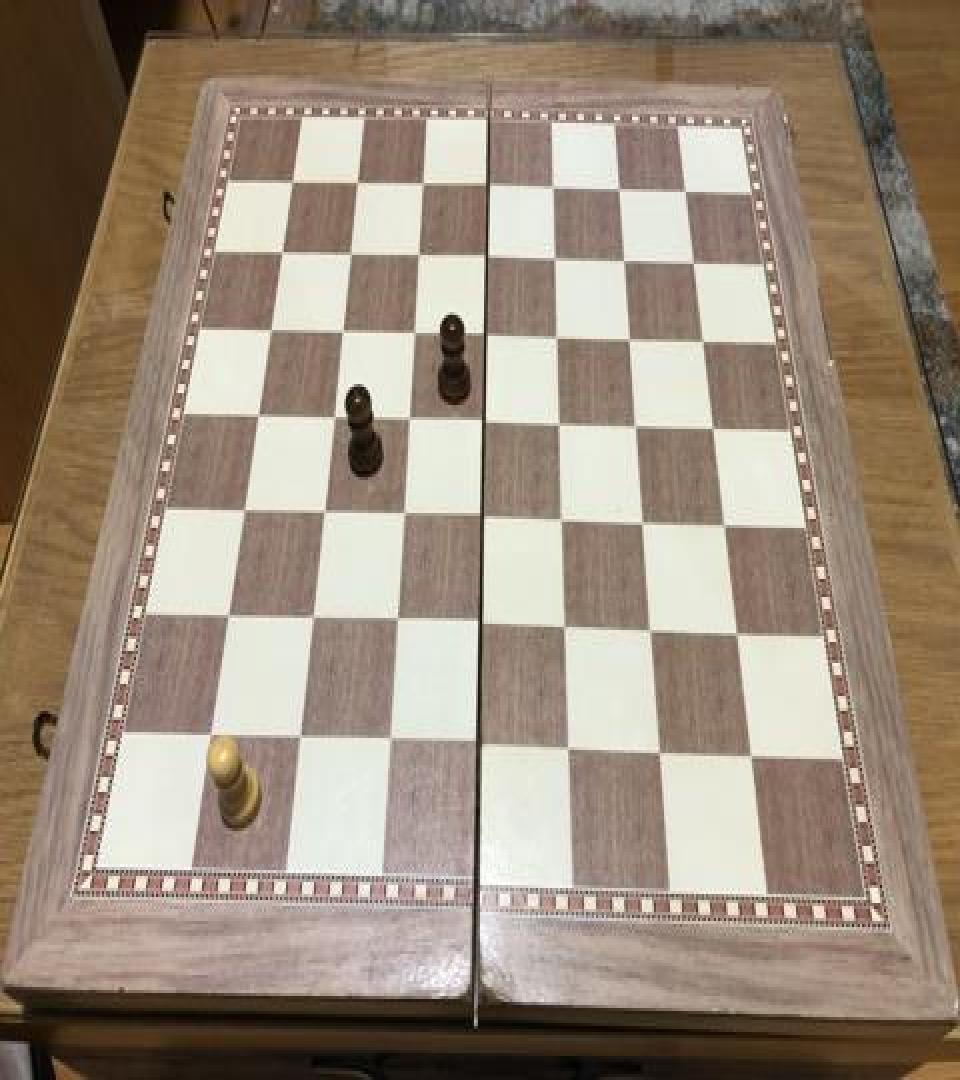xcorner: (643, 610, 667, 647), (609, 171, 633, 207), (543, 171, 567, 207), (478, 170, 502, 206), (413, 168, 437, 204), (348, 168, 372, 204), (283, 166, 307, 202), (684, 243, 708, 279), (615, 242, 639, 278), (546, 242, 570, 278), (477, 240, 501, 276), (408, 238, 432, 274), (340, 237, 364, 273), (272, 236, 296, 272), (694, 321, 718, 357), (621, 320, 645, 356), (548, 318, 572, 354), (476, 316, 500, 352), (404, 315, 428, 351), (332, 314, 356, 350), (261, 312, 285, 348), (705, 408, 729, 444), (627, 406, 651, 442), (551, 404, 575, 440), (475, 402, 499, 438), (399, 400, 423, 436), (323, 399, 347, 435), (248, 398, 272, 434), (716, 504, 740, 540), (635, 502, 659, 538), (554, 500, 578, 536), (473, 498, 497, 534), (393, 495, 417, 531), (313, 494, 337, 530), (234, 492, 258, 528), (730, 612, 754, 648), (557, 608, 581, 644), (472, 604, 496, 640), (387, 603, 411, 639), (302, 600, 326, 636), (218, 597, 242, 633), (745, 735, 769, 771), (653, 732, 677, 768), (561, 729, 585, 765), (470, 726, 494, 762), (379, 723, 403, 759), (289, 720, 313, 756), (200, 717, 224, 753), (675, 173, 699, 208)
